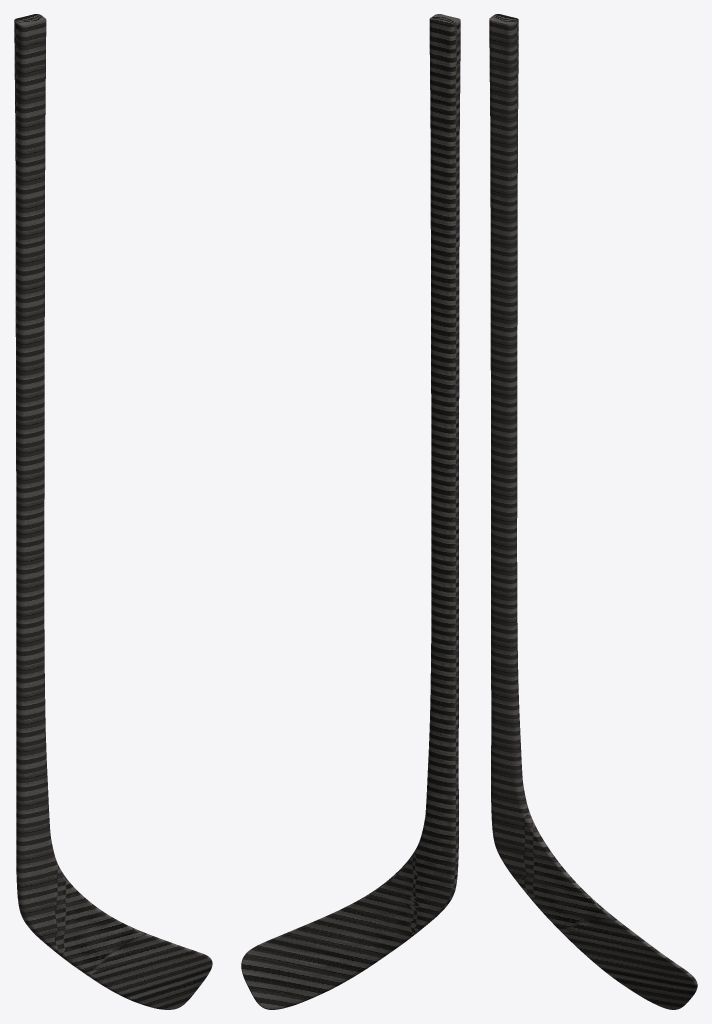
Rendered from P39-SBO.glb.
The picture shows the model from 3 angles, left to right: view 1: azimuth 30°, elevation 25°; view 2: azimuth 150°, elevation 25°; view 3: azimuth 330°, elevation 25°; orthographic projection. The views are drawn at different scales.
Parts seen in each view (by area): view 1: geometry_0; view 2: geometry_0; view 3: geometry_0.
Boxes of the visible parts, x1,y1,x2,y2 form: geometry_0: (14,14,212,1009); geometry_0: (241,14,460,1009); geometry_0: (489,14,697,1009).
Size of the model in its own units: 240 by 1148 by 46.74.
1 material, 1 textured.
